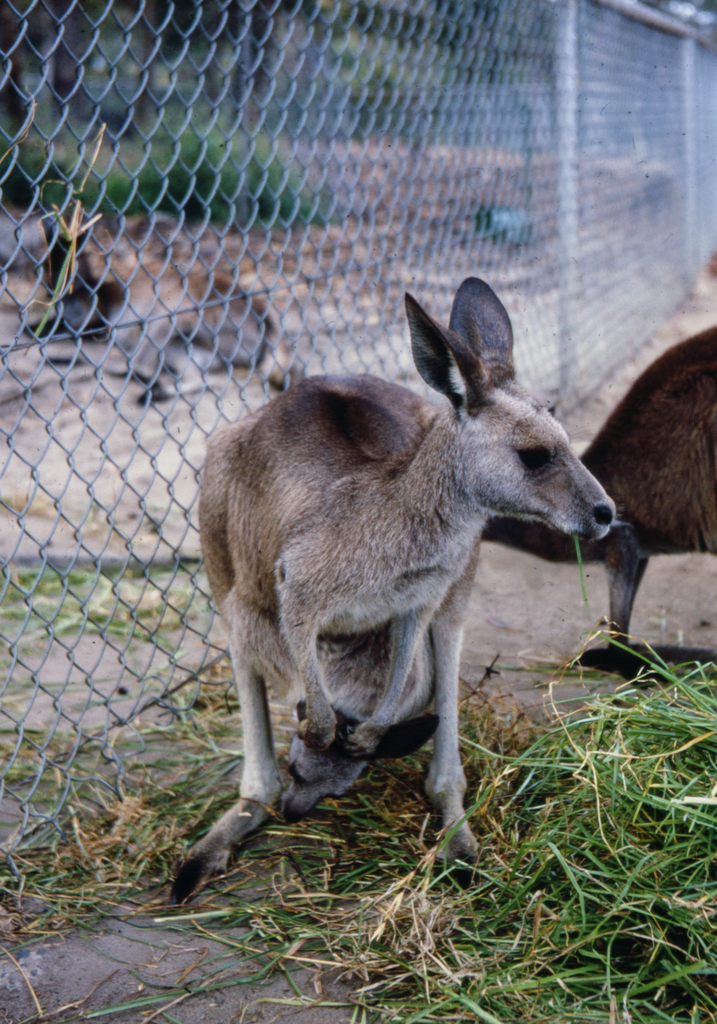kangaroo: (170, 275, 616, 903)
